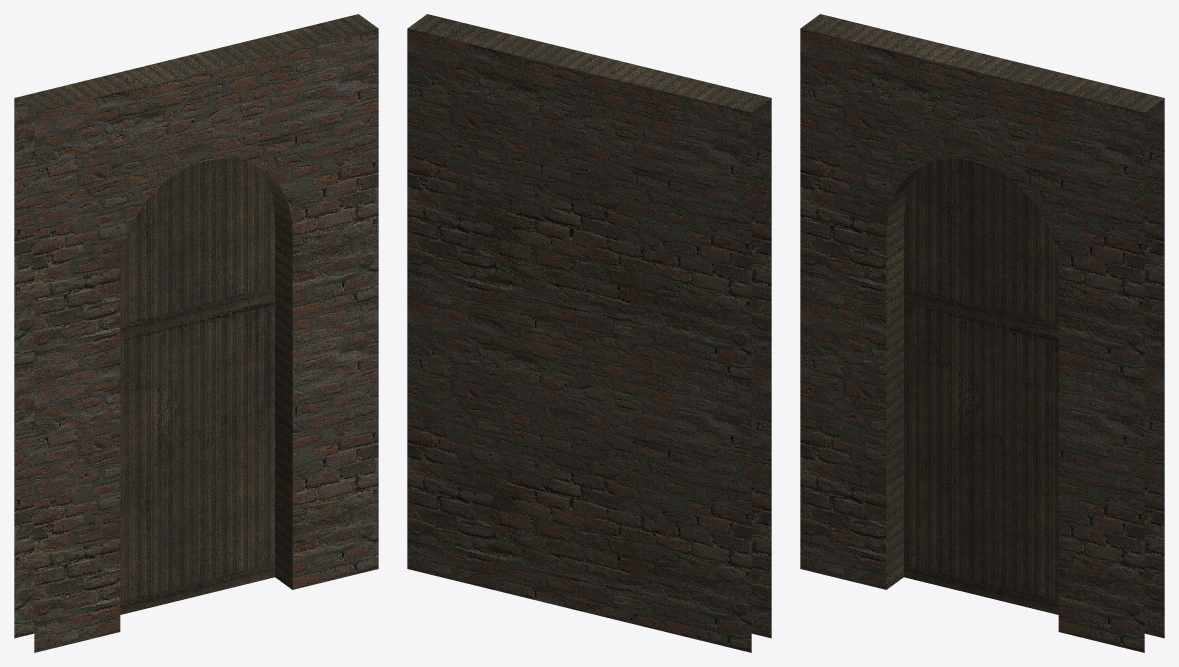
Rendered from wall_hr_15_double.glb.
3 renders of one model, left to right at view 1: azimuth 30°, elevation 25°; view 2: azimuth 150°, elevation 25°; view 3: azimuth 330°, elevation 25°, orthographic.
Visible parts, largest first — view 1: wall_hr_15_double; view 2: wall_hr_15_double; view 3: wall_hr_15_double.
Boxes of the visible parts, <box> form: wall_hr_15_double: <box>14,14,378,652</box>; wall_hr_15_double: <box>407,14,771,652</box>; wall_hr_15_double: <box>800,14,1164,652</box>.
Size of the model in its own units: 4 by 6 by 0.4.
Materials: 2 (2 with a texture image).
